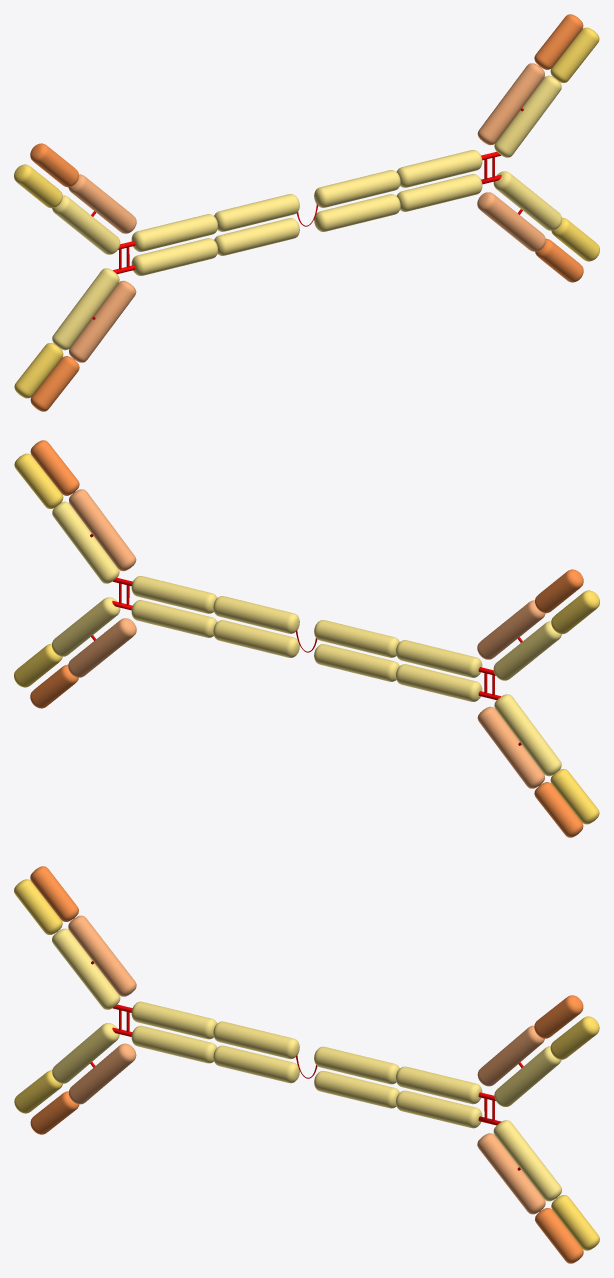
File: antibodies_iga.glb
3 renders of one model, top to bottom at view 1: azimuth 30°, elevation 25°; view 2: azimuth 150°, elevation 25°; view 3: azimuth 330°, elevation 25°, orthographic.
Visible parts, largest first — view 1: IgA; view 2: IgA; view 3: IgA.
Part boxes in pixels (box(x1,y1,x2,y2)): IgA: box(14, 14, 599, 411); IgA: box(14, 440, 599, 837); IgA: box(14, 866, 599, 1263).
Size of the model in its own units: 1.77 by 0.7718 by 0.0556.
Materials: 1 (1 with a texture image).
